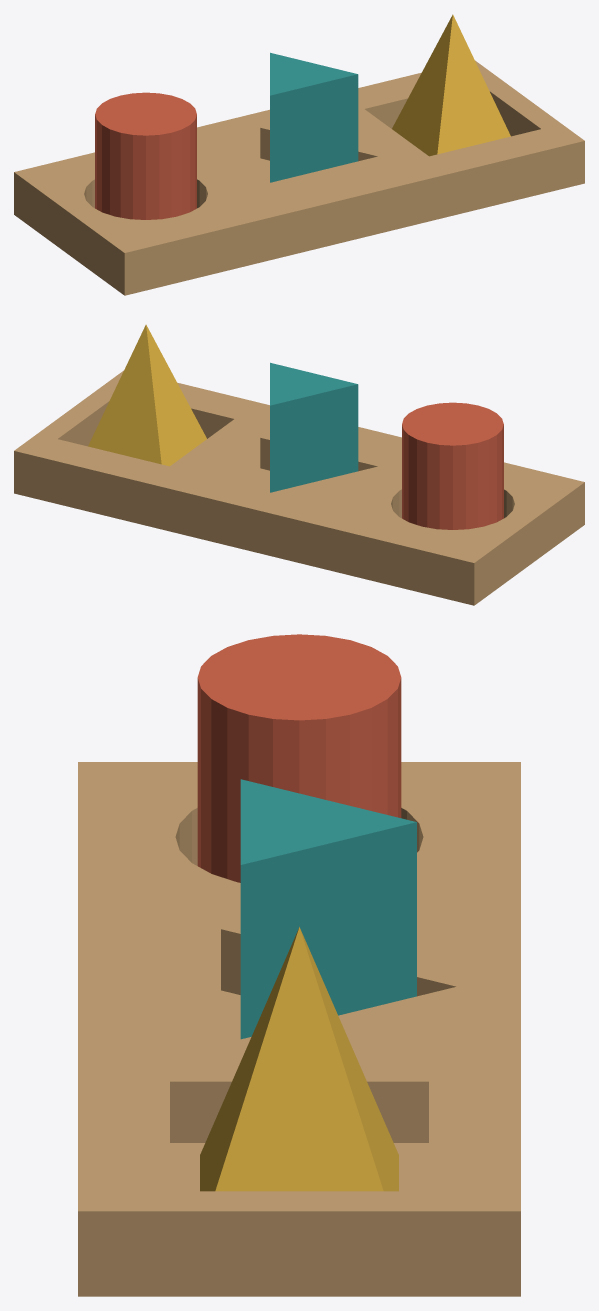
3 views of the same model, one above another, from view 1: azimuth 30°, elevation 25°; view 2: azimuth 150°, elevation 25°; view 3: azimuth 270°, elevation 25° (orthographic). The views are drawn at different scales.
Visible parts, largest first — view 1: Board_ThreeTrueBlindCavities, Cylinder_CircularSection, Prism_TriangularSection, Pyramid_SquareBase; view 2: Board_ThreeTrueBlindCavities, Cylinder_CircularSection, Prism_TriangularSection, Pyramid_SquareBase; view 3: Board_ThreeTrueBlindCavities, Cylinder_CircularSection, Prism_TriangularSection, Pyramid_SquareBase.
Part boxes in pixels (<box>): Board_ThreeTrueBlindCavities: <box>14,60,584,295</box>; Cylinder_CircularSection: <box>95,92,196,219</box>; Prism_TriangularSection: <box>270,52,358,182</box>; Pyramid_SquareBase: <box>392,14,510,156</box>; Board_ThreeTrueBlindCavities: <box>14,370,584,605</box>; Cylinder_CircularSection: <box>402,402,503,529</box>; Prism_TriangularSection: <box>270,362,358,492</box>; Pyramid_SquareBase: <box>88,324,206,466</box>; Board_ThreeTrueBlindCavities: <box>78,762,520,1296</box>; Cylinder_CircularSection: <box>197,634,401,882</box>; Prism_TriangularSection: <box>240,779,416,1039</box>; Pyramid_SquareBase: <box>200,927,398,1191</box>.
Bounding box in the file's own units: 0.96 × 0.294 × 0.4.
